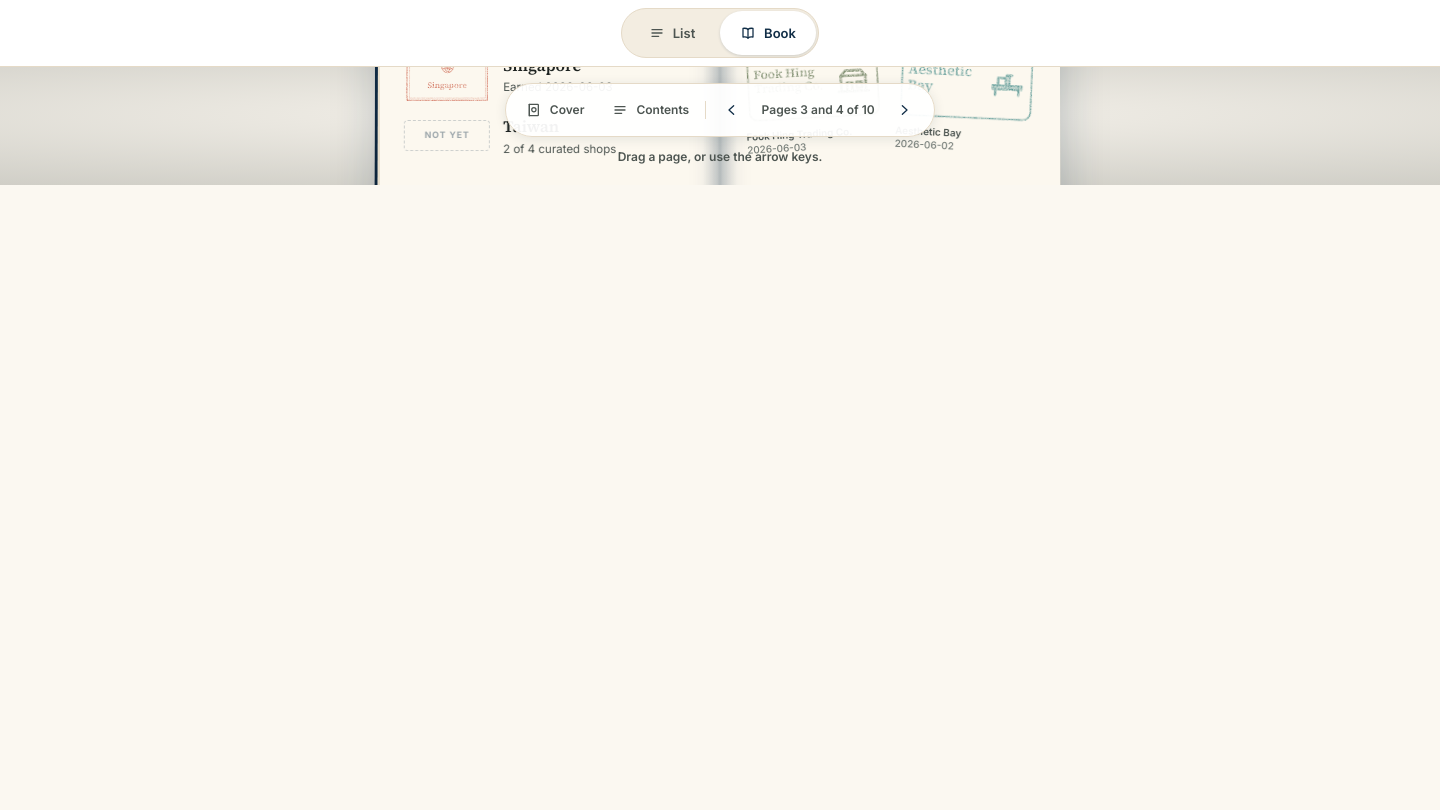
derived seals › makes the Book's country seals selectable too
The width and height of the screenshot is (1440, 810).
Check: the element named "passport view" is shown, box [621,8,819,58]
Check: the number of buttons "COUNTRY Singapore Country seal, Singapore, earned 2026-06-03" is 1, box [404,67,490,103]
What coordinates should you click on to do the following:
click the button "COUNTRY Singapore Country seal, Singapore, earned 2026-06-03"
I would click on:
 (447, 74)
Its box is [404,45,490,103].
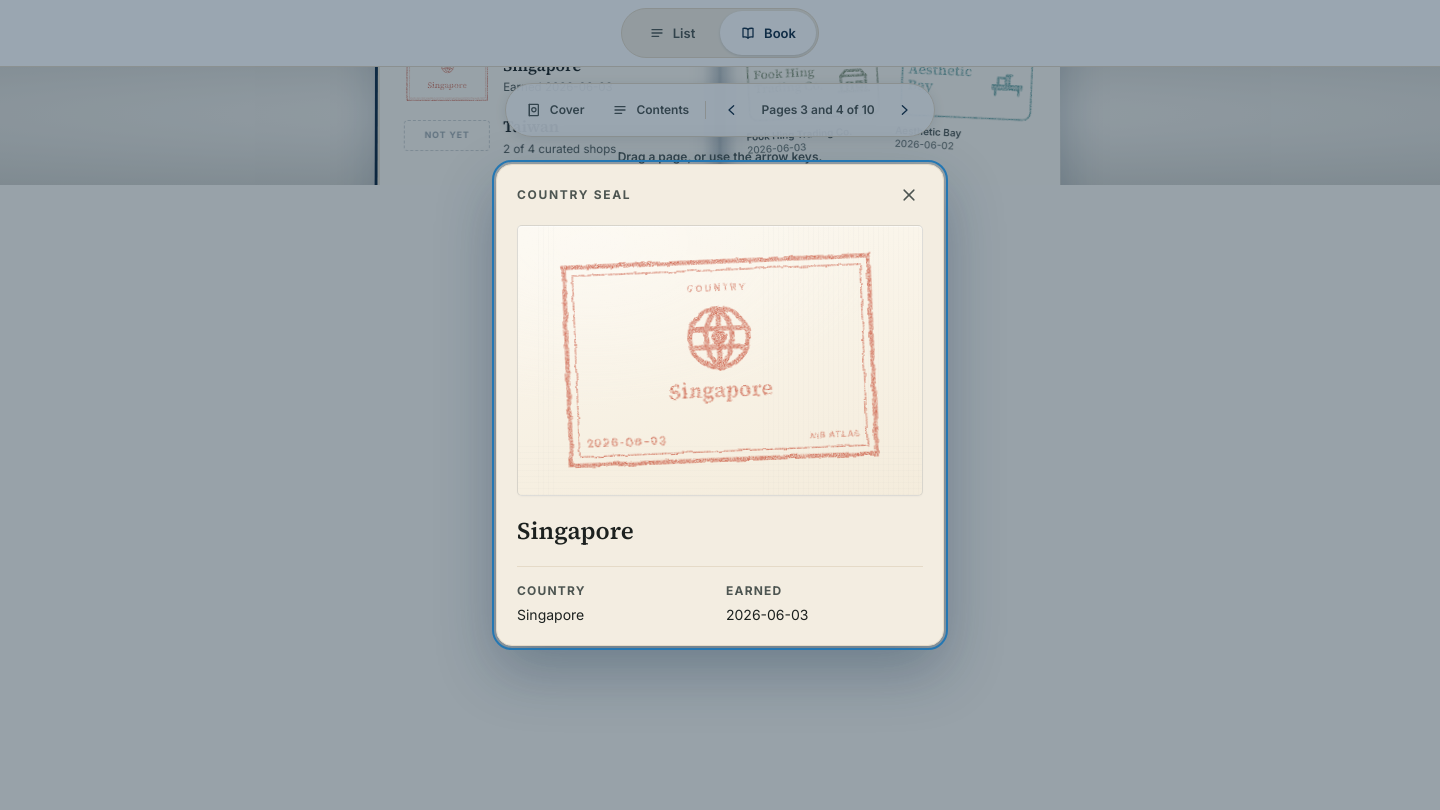
Check: the text "Country seal" is shown, box [517,187,631,203]
